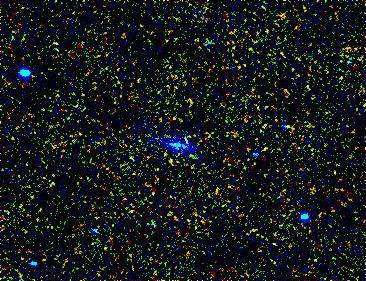star: (179, 142, 209, 172)
